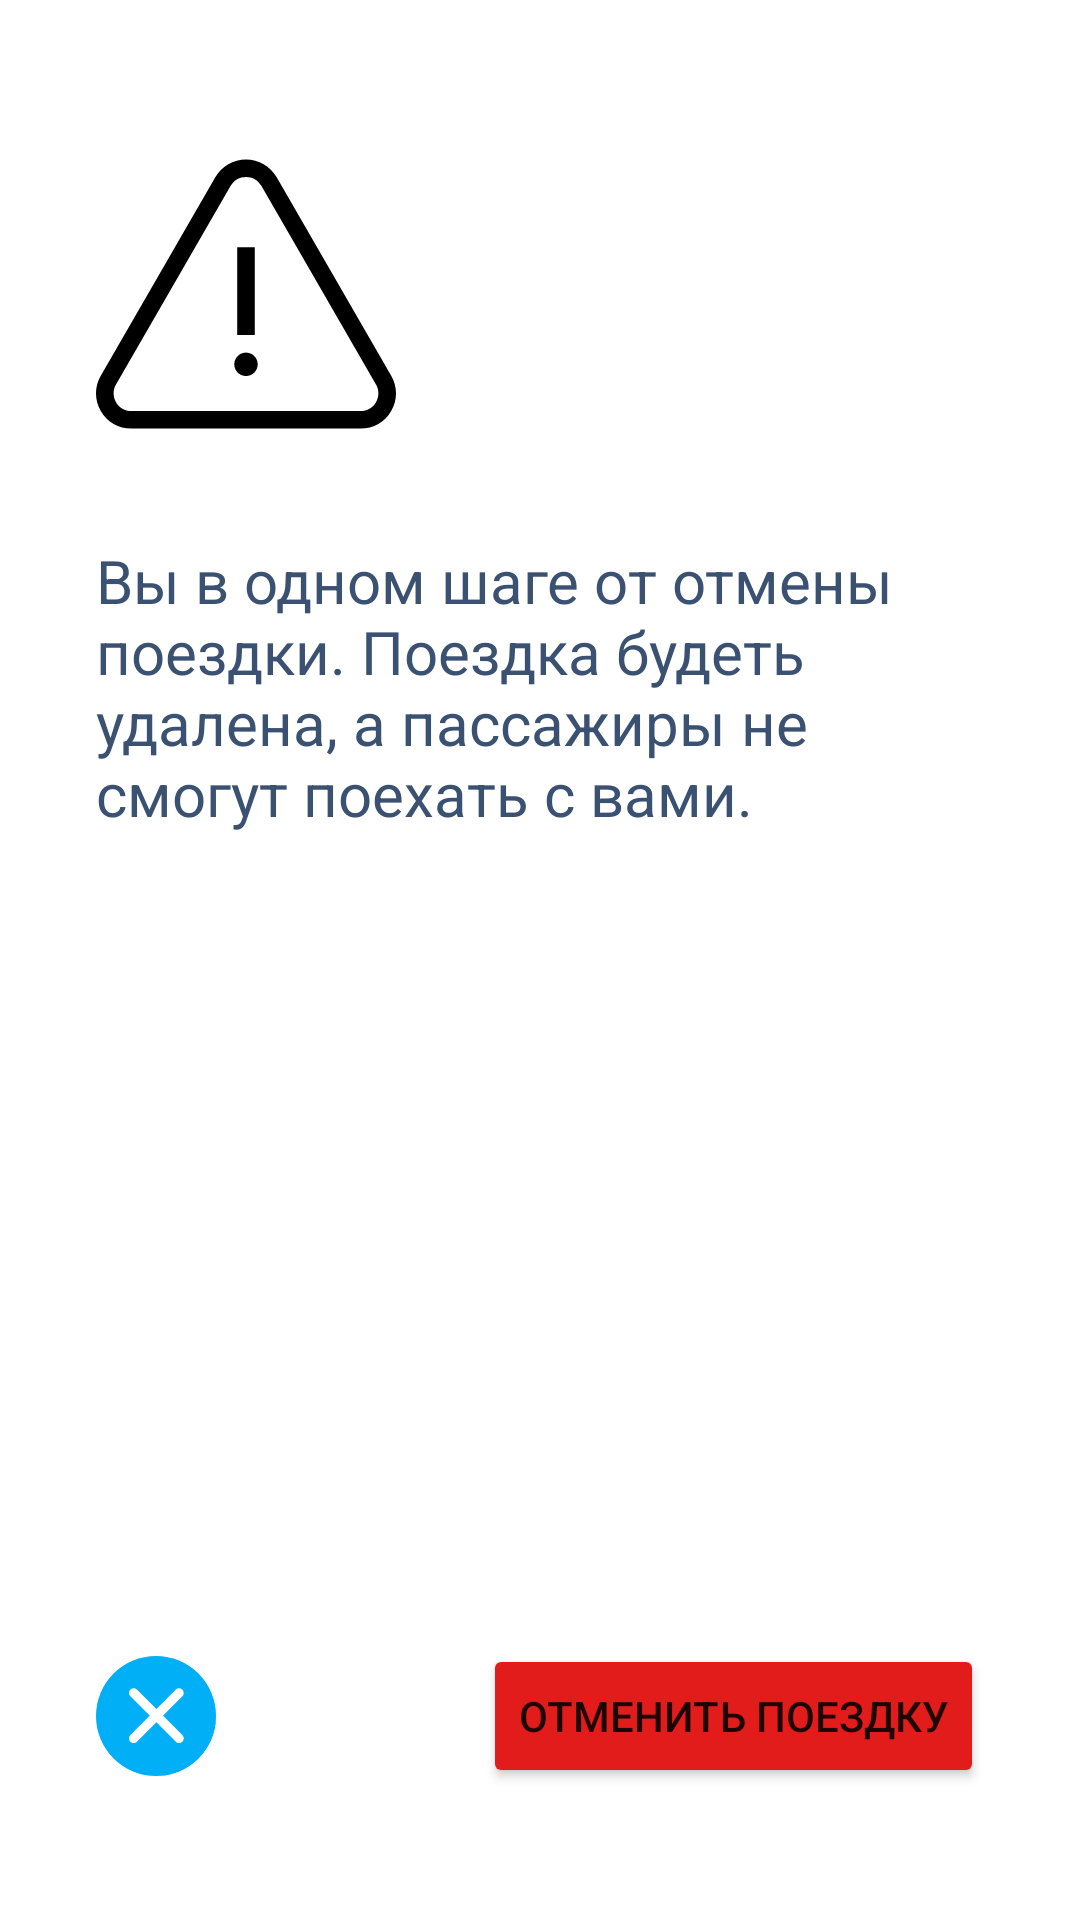

Screen size 1080*1920. Icon name, then its center in pixels as (x,y):
alert: (246,294)
cancel: (156,1716)
